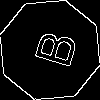B: (25, 25, 79, 70)
